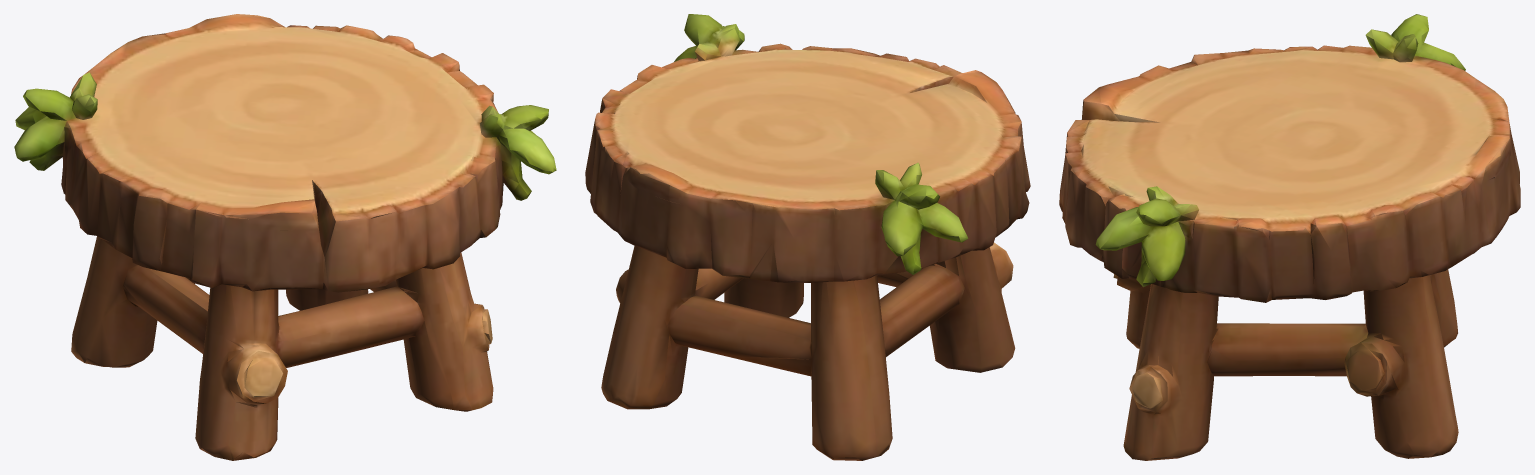
File: table03.glb
3 views of the same model, side by side, from view 1: azimuth 30°, elevation 25°; view 2: azimuth 150°, elevation 25°; view 3: azimuth 270°, elevation 25° (orthographic). The views are drawn at different scales.
Size of the model in its own units: 0.2332 by 0.1552 by 0.2205.
1 material, 1 textured.
